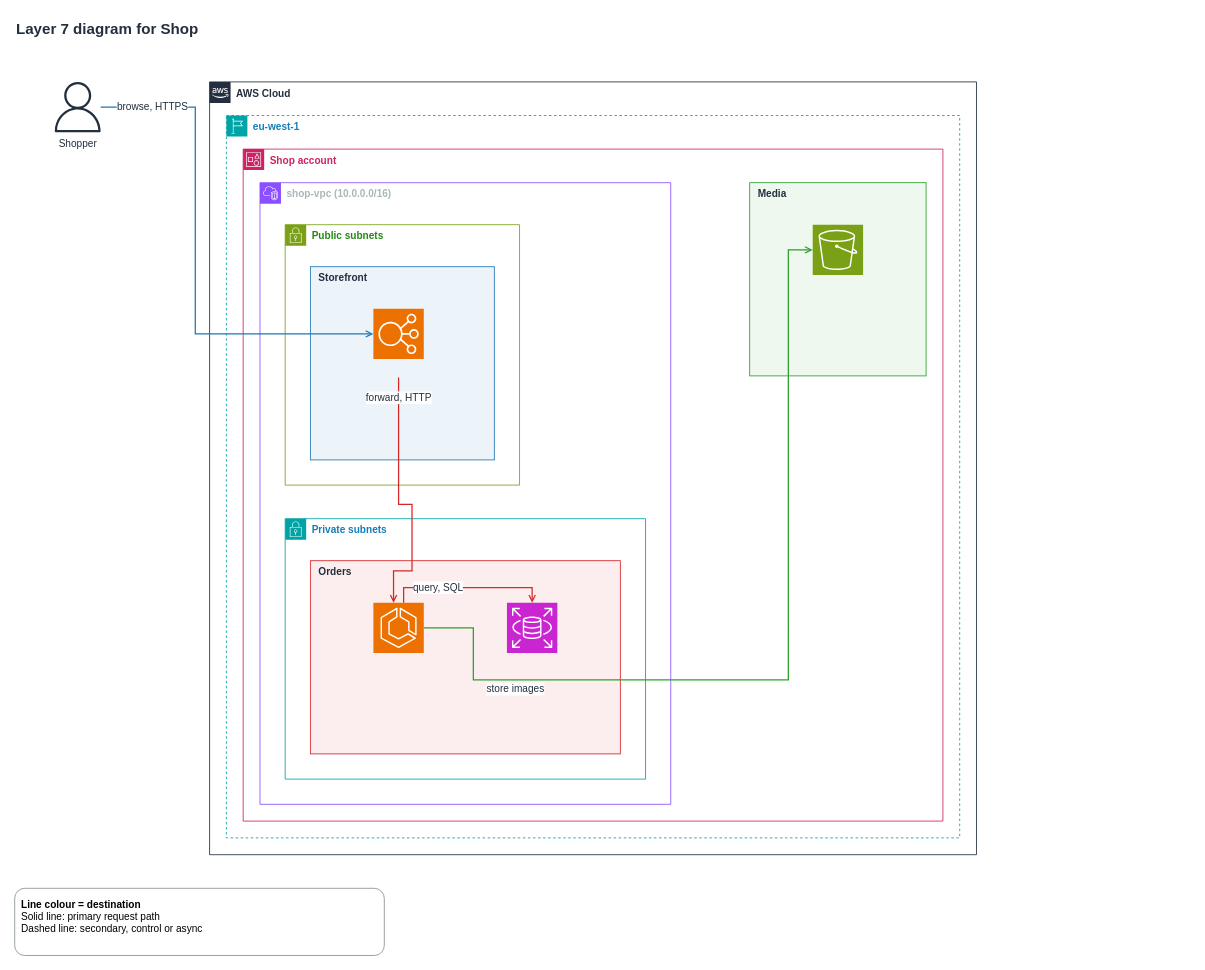
The diagram is 1205 pixels wide and 970 high, and some of its shapes have lost their labels. Each missing label, with the centre of its shape:
Load balancer: the point at 398,333
Media bucket: the point at 837,249
Order service: the point at 398,627
Orders database: the point at 531,627
